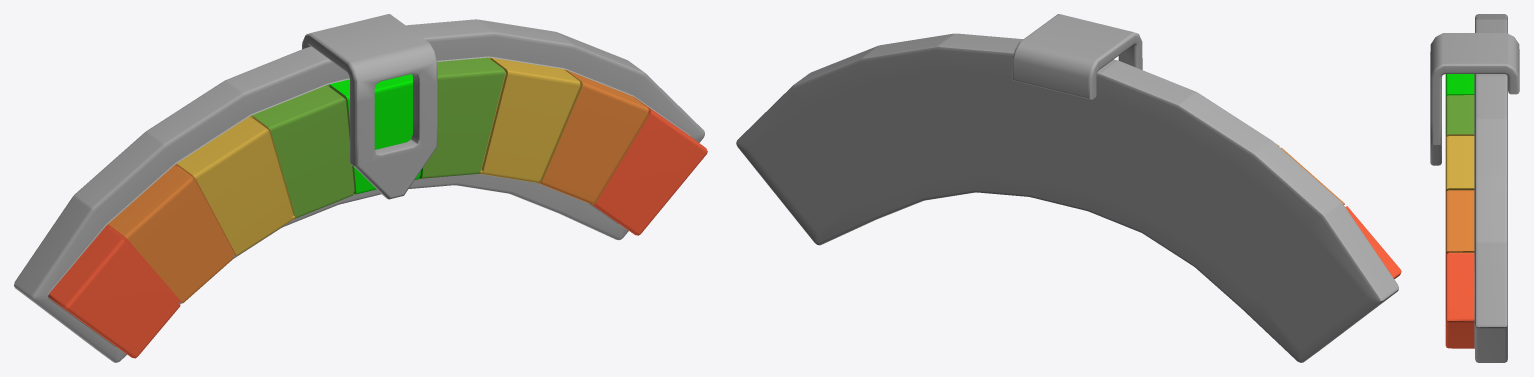
The model's file is Meter.fbx.
3 views of the same model, side by side, from view 1: azimuth 30°, elevation 25°; view 2: azimuth 150°, elevation 25°; view 3: azimuth 270°, elevation 25° (orthographic). The views are drawn at different scales.
Visible parts, largest first — view 1: Meter, Needle; view 2: Meter, Needle; view 3: Meter, Needle.
Boxes of the visible parts, x1=… form: Meter: x1=14, y1=19, x2=707, y2=362; Needle: x1=302, y1=14, x2=437, y2=199; Meter: x1=736, y1=33, x2=1401, y2=362; Needle: x1=1012, y1=14, x2=1142, y2=99; Meter: x1=1445, y1=14, x2=1507, y2=362; Needle: x1=1430, y1=33, x2=1519, y2=165.
Bounding box in the file's own units: 165 × 61.99 × 23.39.
